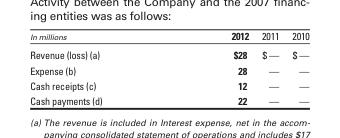table: (29, 29, 308, 106)
table column: (29, 29, 166, 106), (166, 29, 254, 106), (254, 29, 284, 106), (284, 29, 308, 106)
table column header: (29, 29, 308, 44)
table row: (29, 44, 308, 62), (29, 29, 308, 44), (29, 62, 308, 77), (29, 77, 308, 92), (29, 92, 308, 106)
